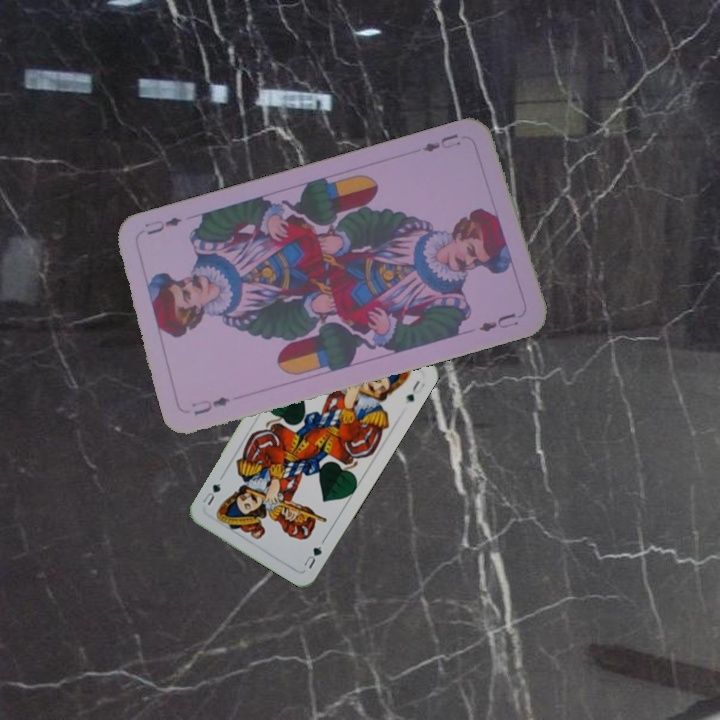EU: (188, 392, 233, 419), (418, 129, 463, 155)
GU: (299, 542, 325, 571)
